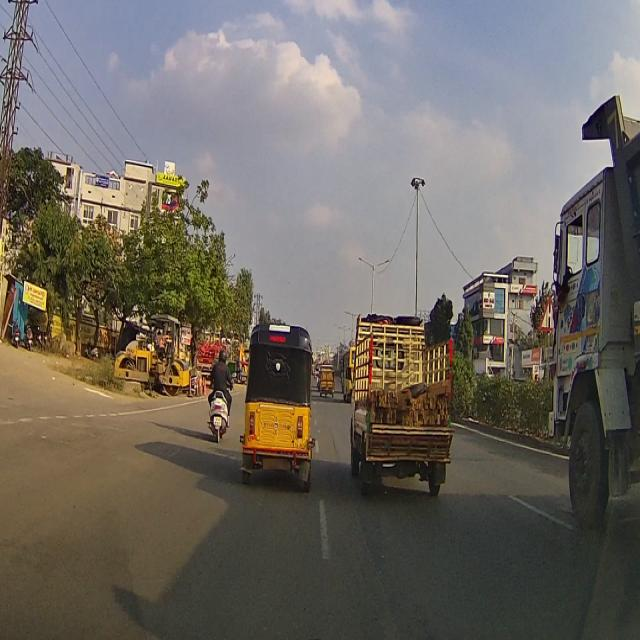gap-in-median: (540, 285, 556, 339)
